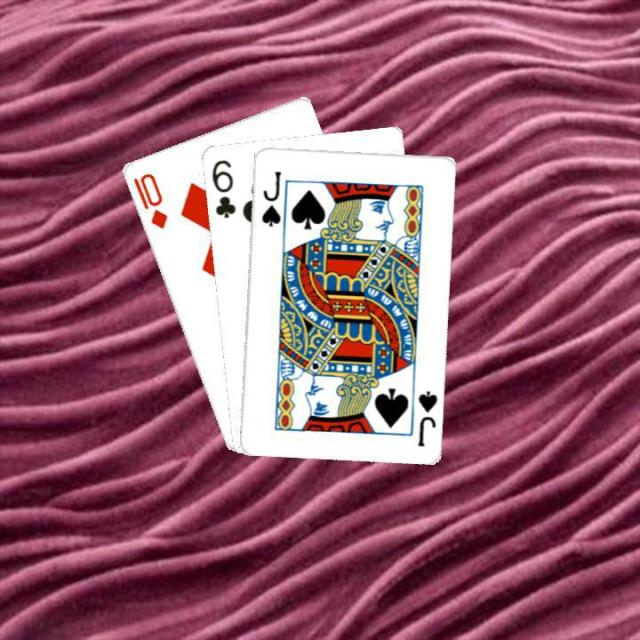10D: (129, 169, 169, 230)
6C: (207, 154, 237, 220)
JS: (257, 167, 283, 229), (414, 387, 438, 448)
